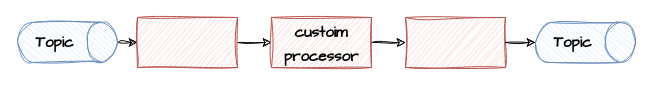
This 653x85 diagram has some shape labels left out. Each missing label, with the centre of its shape:
Sink Processor: (x=455, y=42)
Source Processor: (x=187, y=42)
